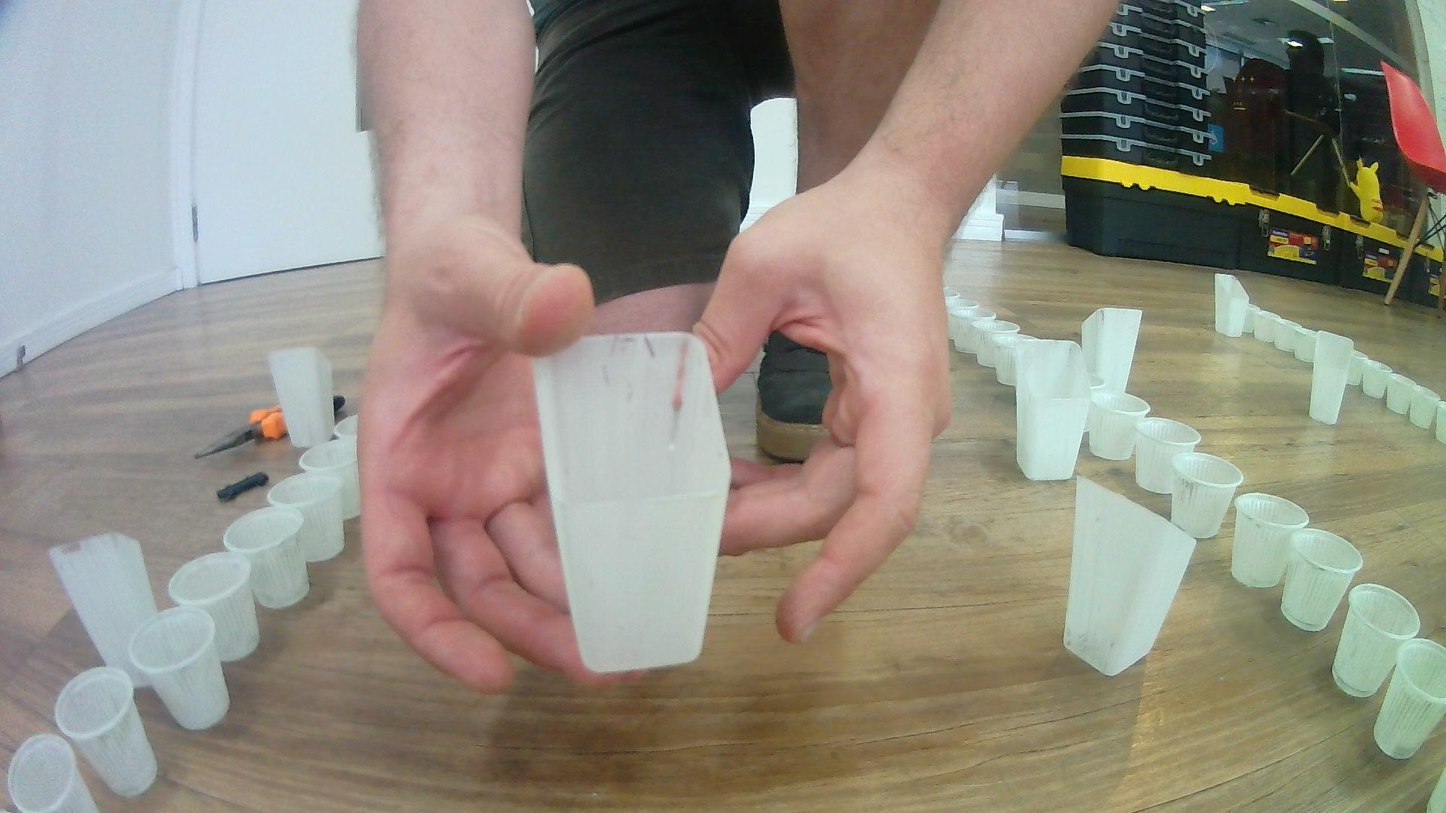erva_daninha: (530, 326, 731, 675), (1063, 473, 1201, 678), (45, 531, 166, 699), (1010, 338, 1093, 485), (269, 348, 338, 451), (1081, 305, 1144, 396), (1310, 330, 1358, 427), (1214, 272, 1250, 339)
planta: (52, 667, 159, 800), (127, 607, 232, 731), (165, 553, 262, 663), (1332, 583, 1421, 699), (221, 506, 310, 610), (1374, 638, 1446, 762), (1280, 528, 1364, 632), (5, 733, 102, 813), (1230, 493, 1310, 589), (267, 473, 346, 563), (1170, 452, 1244, 540), (1134, 417, 1203, 495), (299, 439, 361, 521), (1088, 392, 1151, 461), (970, 318, 1022, 368), (951, 308, 998, 353), (993, 333, 1030, 386), (945, 298, 980, 342), (1408, 386, 1441, 430), (1384, 372, 1417, 415), (1362, 359, 1393, 399), (1244, 304, 1275, 343), (1267, 315, 1298, 352), (1287, 327, 1319, 362), (1347, 350, 1370, 388), (330, 415, 359, 442), (1435, 400, 1446, 446), (944, 289, 963, 300)
